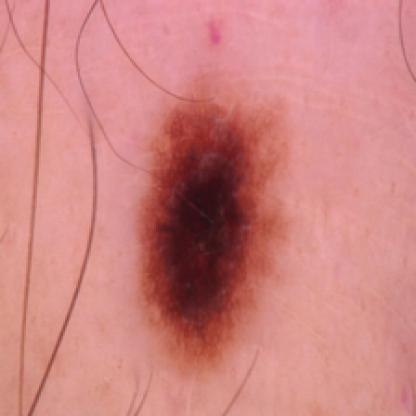benign: (138, 93, 284, 364)
